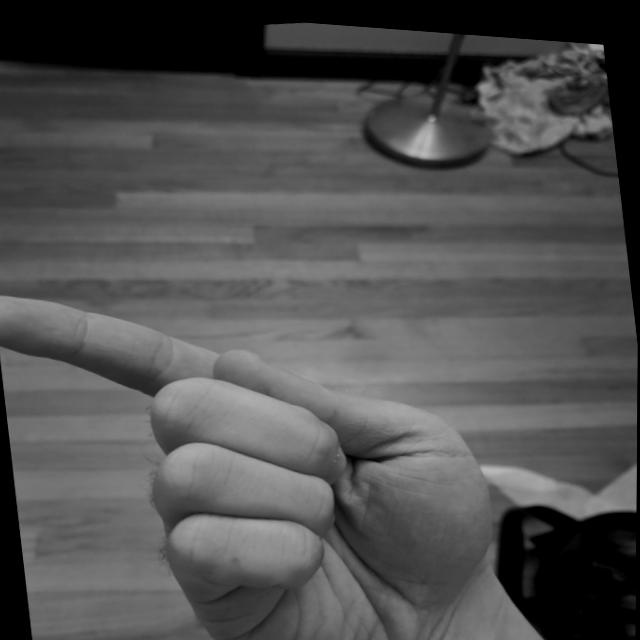G: (0, 227, 526, 639)
